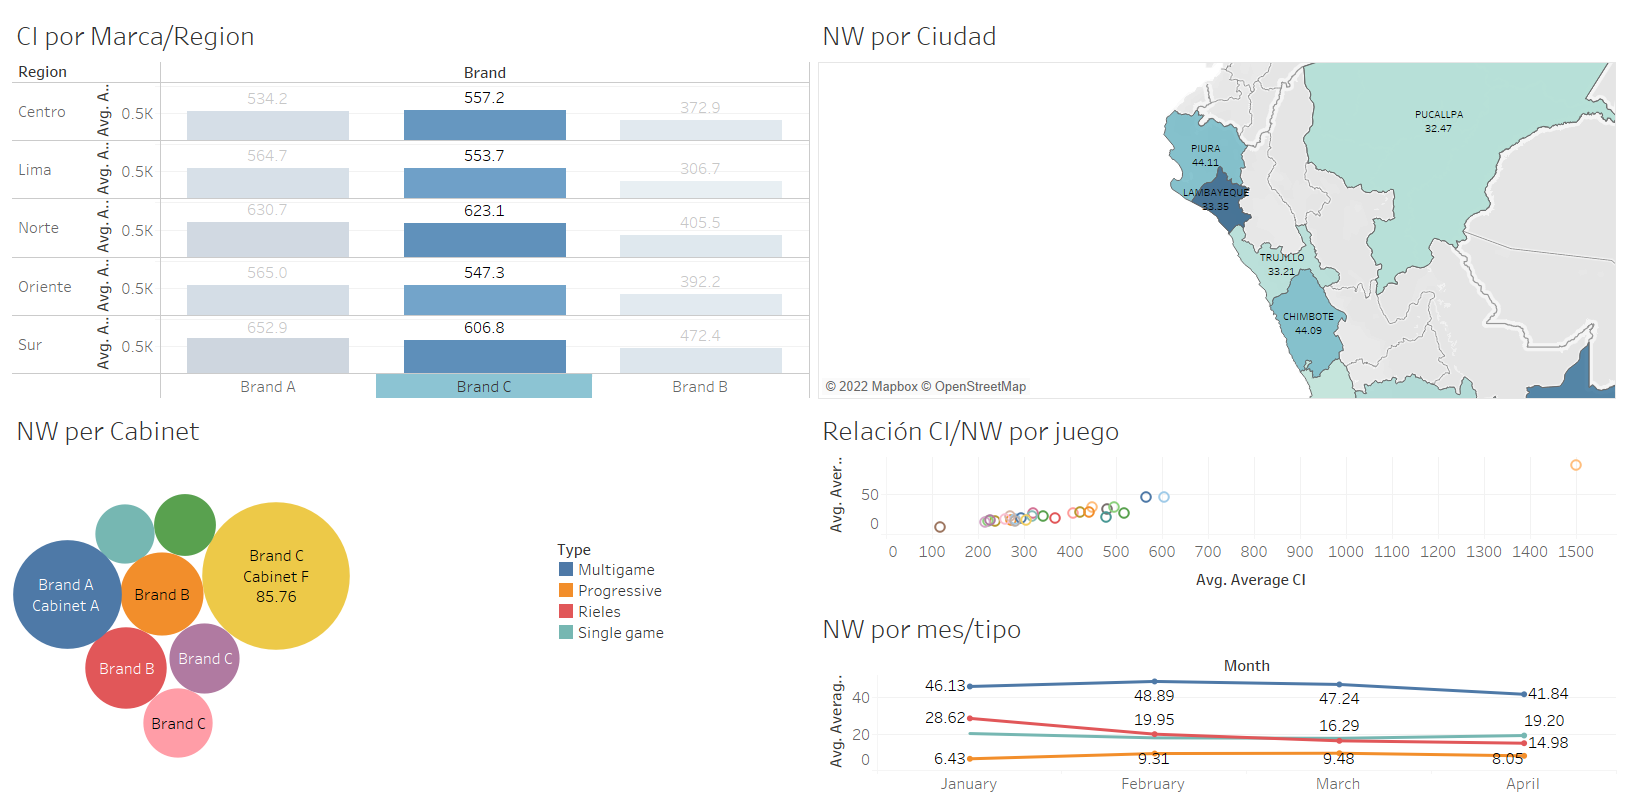

This screenshot's page, from the dashboard's own definition file:
{"tool":"tableau","page":{"name":"Dashboard 1","canvas":[1000,1000],"units":"permille","ordinal":0},"visuals":[{"type":"worksheet","title":"CI por Marca/Region","mark":"Automatic","rows":["Region","Average CI"],"cols":["Brand"],"box":[7.8,10.4,492.2,489.6]},{"type":"worksheet","title":"NW por Ciudad","mark":"Automatic","box":[500,10.4,492.2,489.6]},{"type":"worksheet","title":"NW per Cabinet","mark":"Circle","box":[7.8,500,492.2,489.6]},{"type":"worksheet","title":"Relación CI/NW por juego","mark":"Automatic","rows":["Average NW"],"cols":["Average CI"],"box":[500,500,492.2,244.8]},{"type":"legend","title":"NW por mes/tipo","param":"[federated.0g62g5e186pqpc11amlw41huj0xd].[none:Type:nk]","box":[338.9,660.2,156.2,138]},{"type":"worksheet","title":"NW por mes/tipo","mark":"Line","rows":["Average NW"],"cols":["Month"],"box":[500,744.8,492.2,244.8]}]}

Visuals, with their boxes on the dashboard's canvas, which has no fixed pixel size, in thousandths of its width and height (x1, y1, x2, y2). These are canvas units, not pixel positions in the 1628x807 screenshot, which may show the page scaled, cropped or inside an application window:
"CI por Marca/Region" worksheet: (left=8, top=10, right=500, bottom=500)
"NW por Ciudad" worksheet: (left=500, top=10, right=992, bottom=500)
"NW per Cabinet" worksheet (Circle marks): (left=8, top=500, right=500, bottom=990)
"Relación CI/NW por juego" worksheet: (left=500, top=500, right=992, bottom=745)
"NW por mes/tipo" legend: (left=339, top=660, right=495, bottom=798)
"NW por mes/tipo" worksheet (Line marks): (left=500, top=745, right=992, bottom=990)
